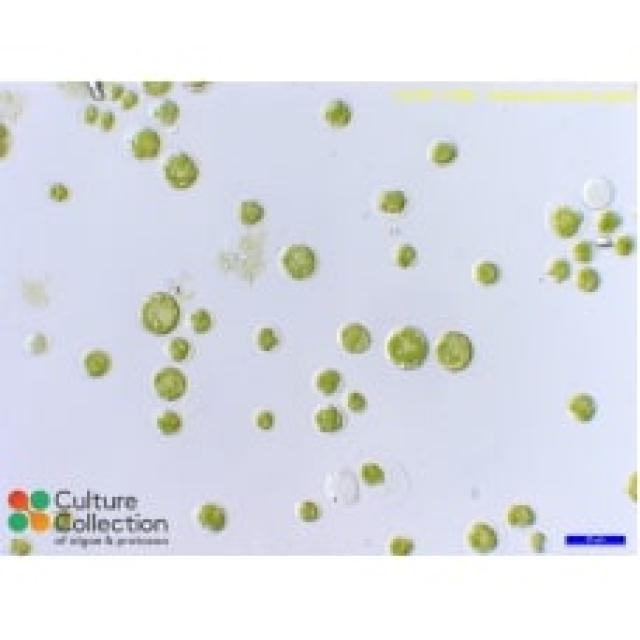Green Algae: (385, 320, 432, 371), (432, 328, 477, 379), (138, 289, 182, 334), (544, 200, 584, 242), (281, 238, 320, 280), (337, 314, 376, 356), (160, 149, 199, 188), (191, 497, 230, 533), (573, 258, 606, 298), (126, 126, 163, 160), (152, 365, 185, 401), (312, 399, 348, 432), (154, 404, 188, 438), (81, 342, 112, 379), (468, 519, 499, 556), (236, 196, 269, 228), (567, 393, 598, 427), (474, 255, 502, 292), (309, 365, 342, 396), (544, 258, 576, 289), (427, 138, 460, 168), (322, 98, 353, 129), (376, 188, 413, 213), (360, 461, 388, 492), (154, 98, 182, 126), (297, 497, 323, 525), (396, 239, 418, 272), (168, 331, 191, 362), (255, 322, 278, 353), (253, 404, 278, 432), (598, 208, 620, 238), (388, 533, 416, 556), (505, 505, 536, 525), (191, 306, 213, 334), (345, 384, 365, 412), (48, 180, 70, 205), (98, 107, 118, 132), (576, 233, 592, 261)
